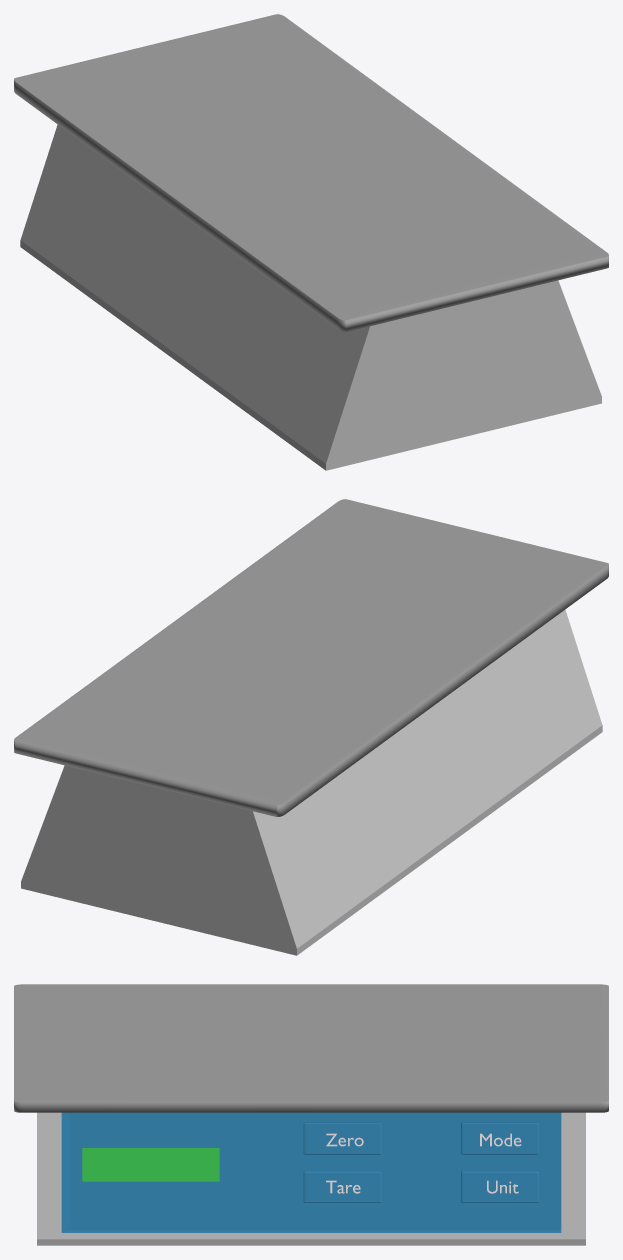
The model's file is timbangan.fbx.
3 views of the same model, one above another, from view 1: azimuth 30°, elevation 25°; view 2: azimuth 150°, elevation 25°; view 3: azimuth 270°, elevation 25° (orthographic). The views are drawn at different scales.
Visible parts, largest first — view 1: Cube.001, Cube.002; view 2: Cube.001, Cube.002; view 3: Cube.001, Cube.002, Cube, Cube.005, Cube.006, Cube.003, Cube.004.
Boxes of the visible parts, <box> form: Cube.001: <box>14,14,608,331</box>; Cube.002: <box>20,124,601,470</box>; Cube.001: <box>14,499,608,816</box>; Cube.002: <box>21,609,602,955</box>; Cube.001: <box>14,984,608,1112</box>; Cube.002: <box>37,1112,585,1245</box>; Cube: <box>82,1148,219,1181</box>; Cube.005: <box>303,1122,381,1154</box>; Cube.006: <box>303,1171,381,1202</box>; Cube.003: <box>461,1122,538,1154</box>; Cube.004: <box>461,1171,538,1202</box>.
Bounding box in the file's own units: 19.9 × 10.9 × 41.37.
